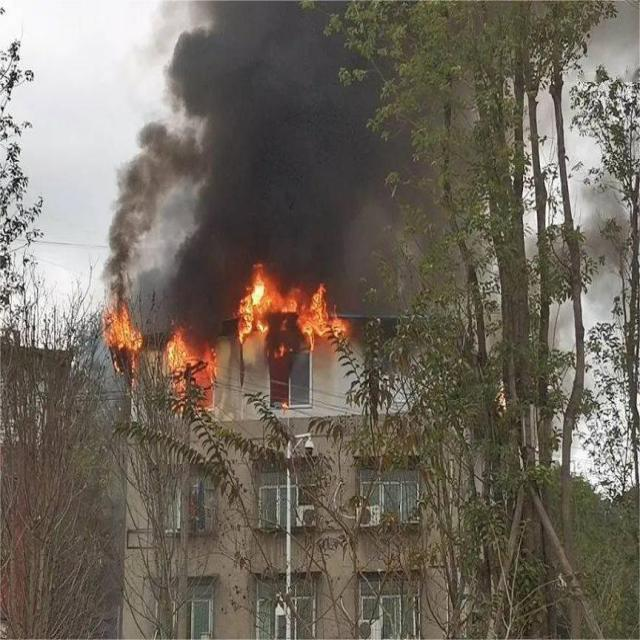Fire: (237, 268, 350, 344), (167, 328, 214, 392), (102, 298, 143, 358)
Smoke: (104, 0, 376, 271)
